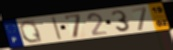2: (87, 12, 110, 36)
3: (111, 10, 132, 32)
7: (63, 13, 83, 40), (130, 6, 148, 31)
I: (50, 15, 64, 41)
Q: (18, 19, 44, 44)
